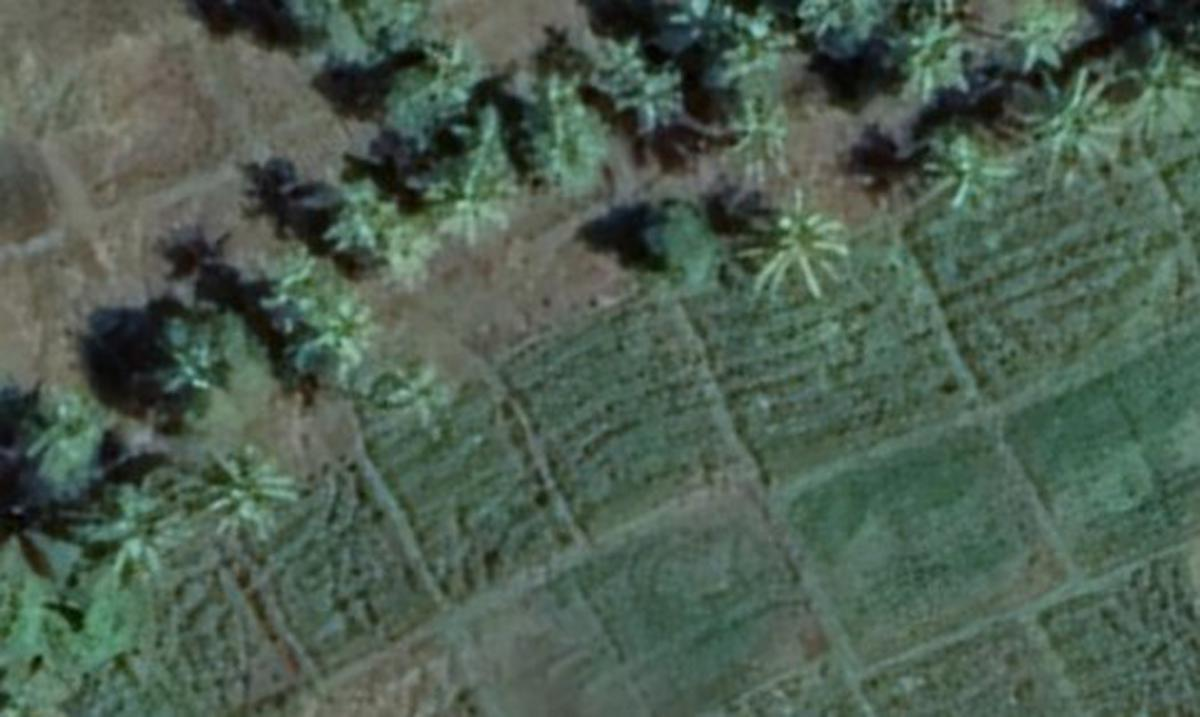coconut: (741, 184, 857, 295), (1012, 59, 1116, 177), (184, 441, 300, 534), (86, 478, 194, 576), (418, 152, 527, 248), (524, 96, 613, 199), (7, 394, 98, 492), (298, 290, 389, 386), (712, 91, 813, 177), (921, 130, 1017, 219), (889, 22, 980, 115), (1121, 44, 1200, 140), (315, 192, 404, 266), (145, 320, 231, 396), (611, 61, 689, 140), (379, 359, 455, 426)
